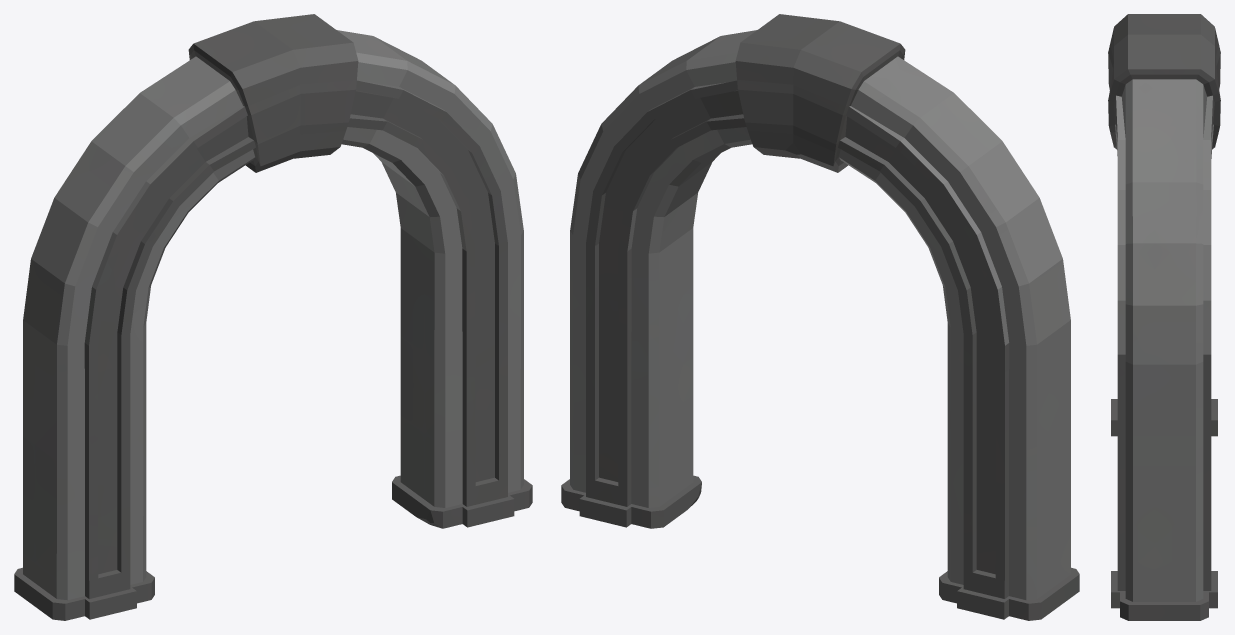
The model's file is Arch_1.fbx.
The picture shows the model from 3 angles, left to right: view 1: azimuth 30°, elevation 25°; view 2: azimuth 150°, elevation 25°; view 3: azimuth 270°, elevation 25°; orthographic projection. The views are drawn at different scales.
Parts seen in each view (by area): view 1: Arch 1; view 2: Arch 1; view 3: Arch 1.
Part boxes in pixels (left/top/right/bottom): Arch 1: left=14, top=14, right=532, bottom=620; Arch 1: left=561, top=14, right=1079, bottom=620; Arch 1: left=1108, top=14, right=1220, bottom=620.
Size of the model in its own units: 242 by 247 by 52.83.
